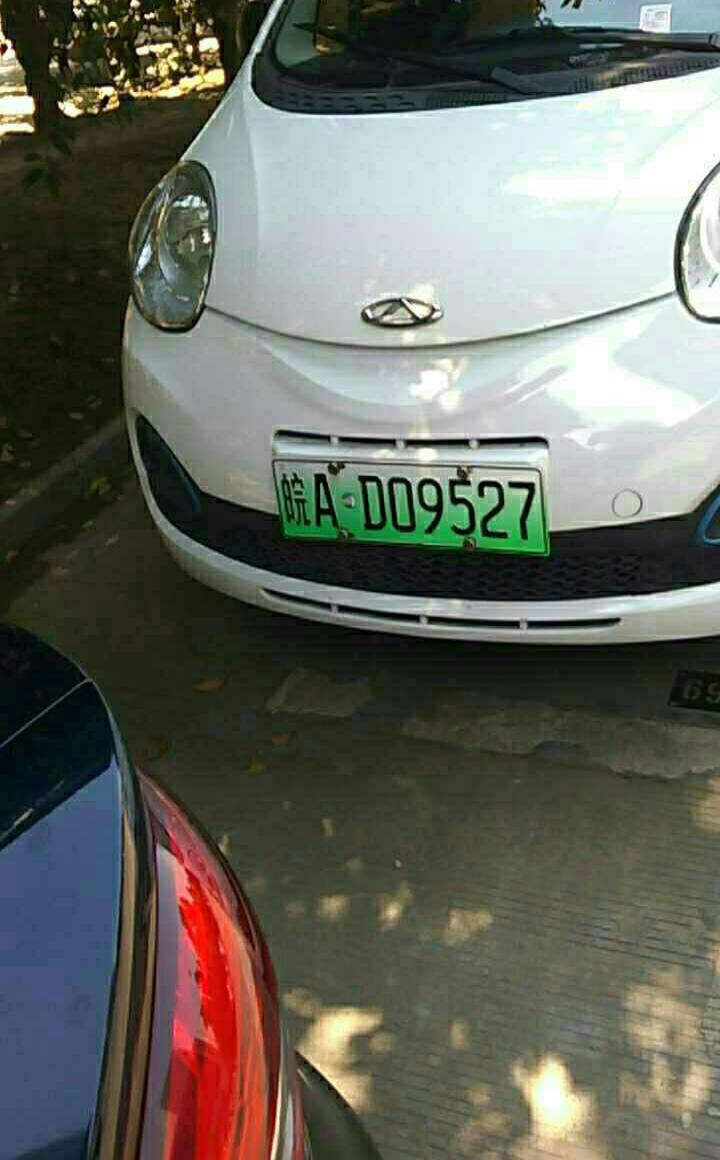car_id: (266, 459, 545, 547)
